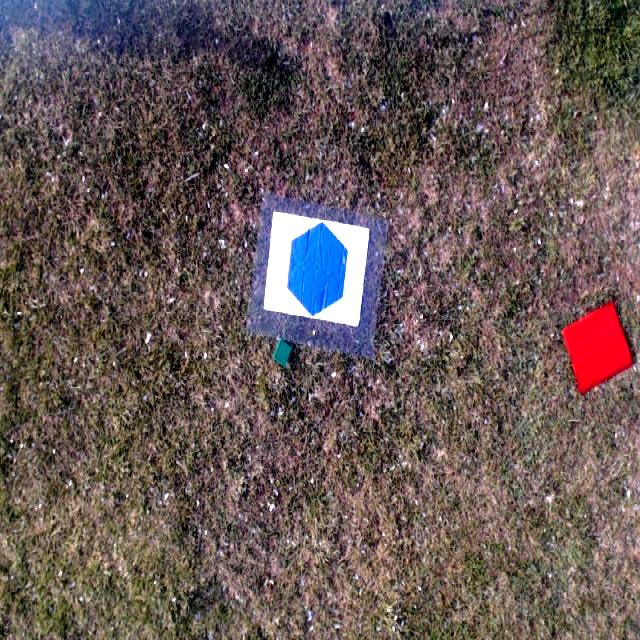blue_hexagon: (286, 221, 348, 317)
red_square: (561, 303, 634, 393)
